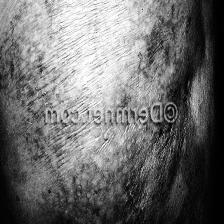Non-Cancerous Skin Condition: (13, 0, 201, 100)
